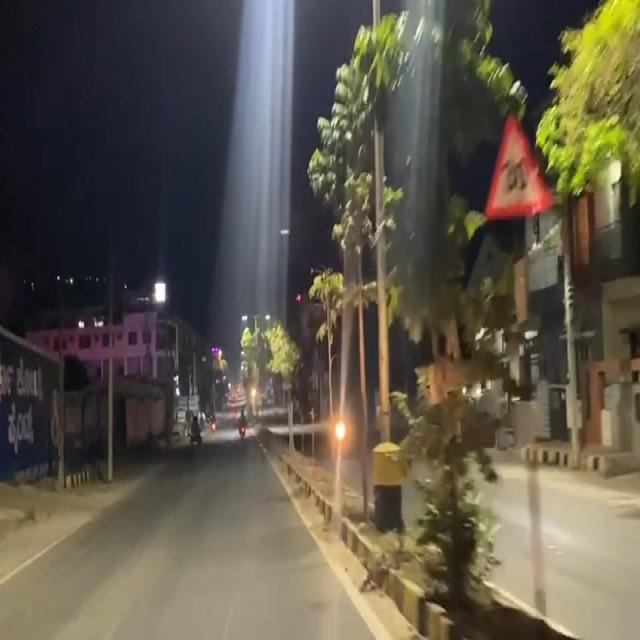bien_cam: (486, 105, 553, 222)
